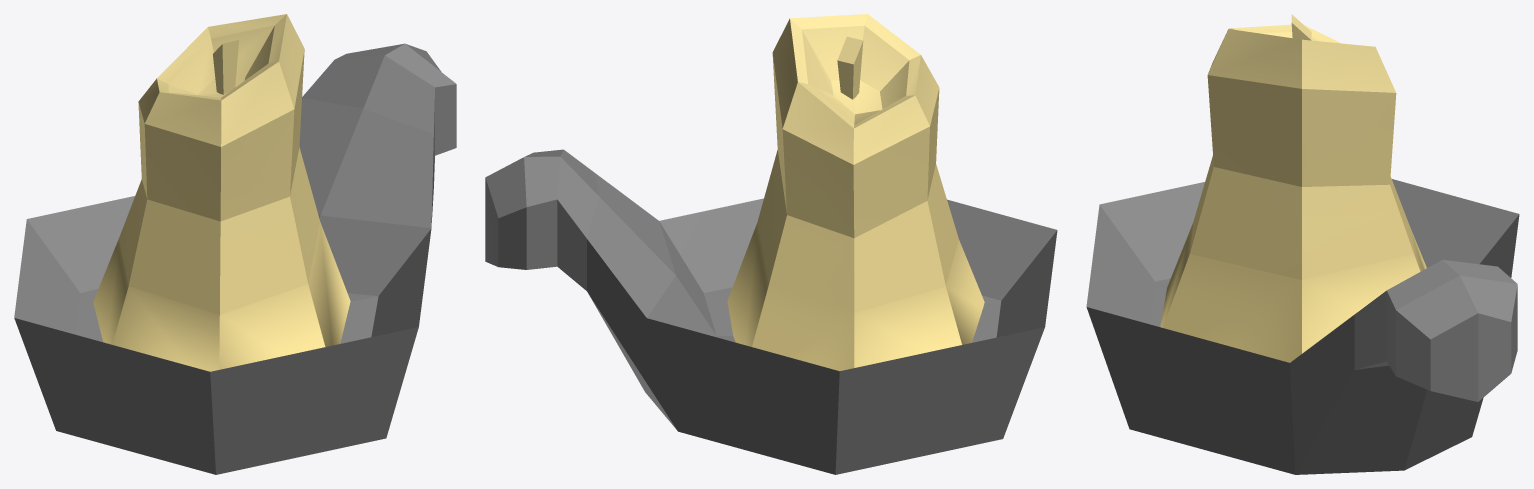
File: Candle_B.fbx
3 renders of one model, left to right at view 1: azimuth 30°, elevation 25°; view 2: azimuth 150°, elevation 25°; view 3: azimuth 270°, elevation 25°, orthographic. The views are drawn at different scales.
Parts seen in each view (by area): view 1: Candle_B; view 2: Candle_B; view 3: Candle_B.
Boxes of the visible parts, x1,y1,x2,y2 form: Candle_B: [14, 14, 456, 474]; Candle_B: [485, 14, 1057, 474]; Candle_B: [1086, 14, 1519, 474].
Bounding box in the file's own units: 15.37 × 10.89 × 11.21.
